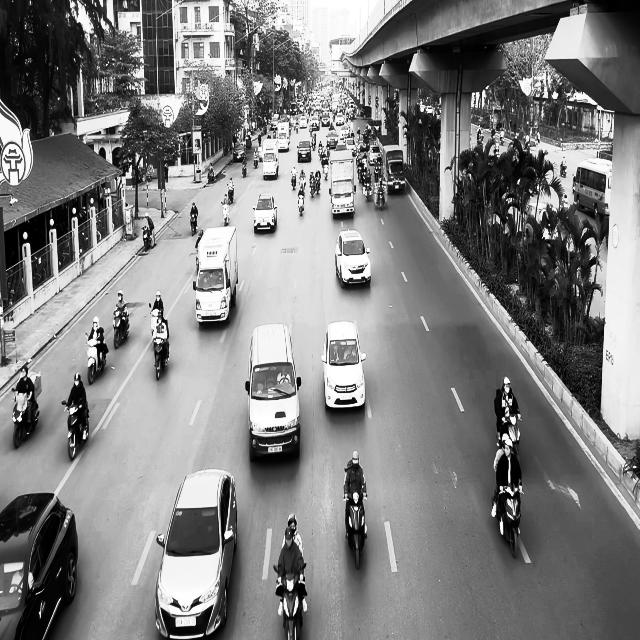bus: (572, 157, 612, 219)
car: (154, 468, 238, 639), (0, 492, 79, 639), (245, 323, 301, 462), (321, 321, 366, 410), (335, 229, 371, 288), (252, 192, 277, 233)
motorbike: (273, 562, 307, 639), (494, 483, 523, 558), (344, 490, 367, 570), (61, 398, 89, 461), (11, 387, 39, 448), (149, 303, 169, 380), (84, 331, 108, 385), (496, 413, 521, 462), (113, 309, 129, 348), (142, 225, 155, 251), (221, 200, 230, 226), (297, 190, 305, 216), (190, 212, 197, 235), (227, 184, 234, 203), (241, 160, 247, 178)
truck: (193, 226, 238, 326)
